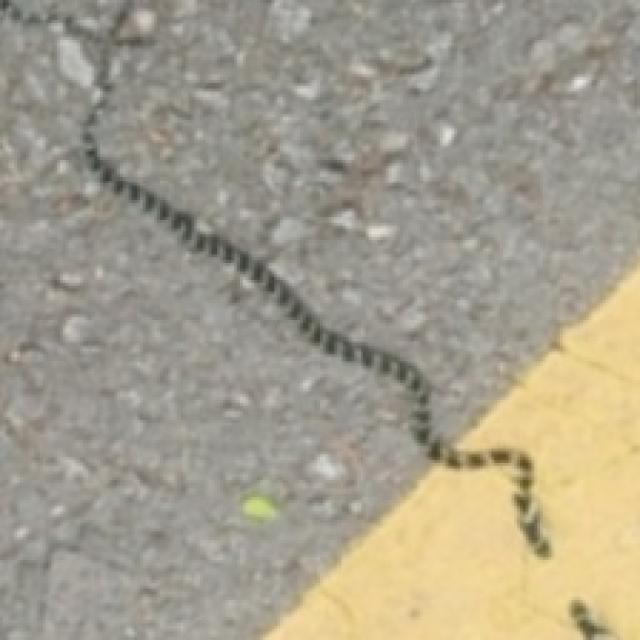king cobra: (86, 6, 549, 554)
